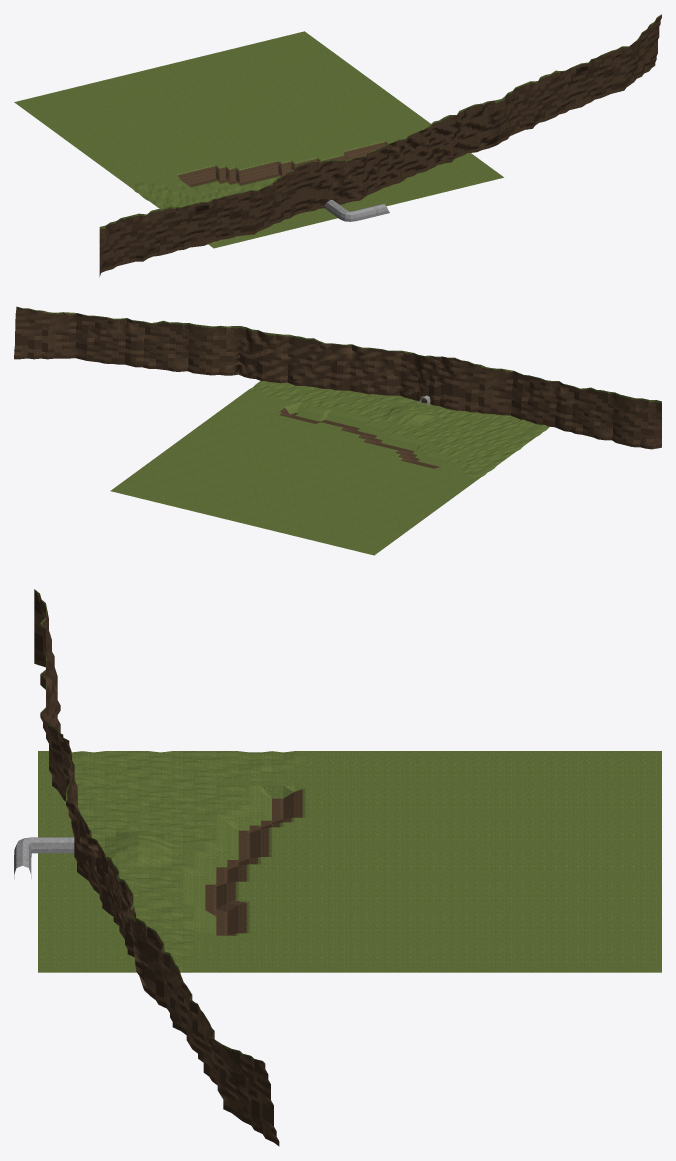
File: MAP_Elvoria.glb
3 views of the same model, one above another, from view 1: azimuth 30°, elevation 25°; view 2: azimuth 150°, elevation 25°; view 3: azimuth 270°, elevation 25° (orthographic). The views are drawn at different scales.
Visible parts, largest first — view 1: Ground, Cliff side, Tunnel1; view 2: Ground, Cliff side; view 3: Ground, Cliff side, Tunnel1.
Boxes of the visible parts, x1=… form: Ground: x1=14, y1=31, x2=503, y2=248; Cliff side: x1=99, y1=14, x2=661, y2=276; Tunnel1: x1=324, y1=200, x2=389, y2=221; Ground: x1=110, y1=381, x2=549, y2=555; Cliff side: x1=14, y1=306, x2=661, y2=449; Ground: x1=38, y1=751, x2=661, y2=972; Cliff side: x1=34, y1=589, x2=279, y2=1146; Tunnel1: x1=14, y1=837, x2=74, y2=879.
Size of the model in its own units: 395 by 36 by 223.
Materials: 5 (5 with a texture image).
